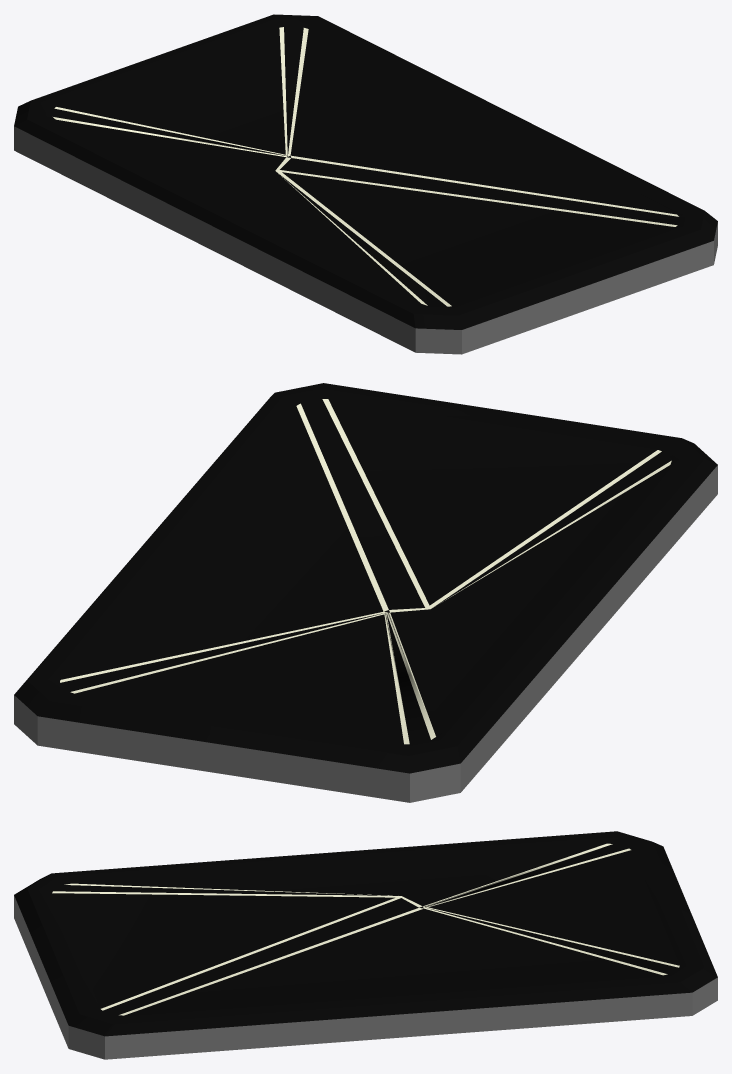
The model's file is Phone_shattered.fbx.
3 renders of one model, top to bottom at view 1: azimuth 30°, elevation 25°; view 2: azimuth 150°, elevation 25°; view 3: azimuth 270°, elevation 25°, orthographic. The views are drawn at different scales.
Visible parts, largest first — view 1: Box029; view 2: Box029; view 3: Box029.
Part boxes in pixels (x1,y1,x2,y2): Box029: [14, 14, 717, 354]; Box029: [14, 383, 717, 802]; Box029: [14, 831, 717, 1059].
Size of the model in its own units: 36.52 by 2.67 by 54.13.
